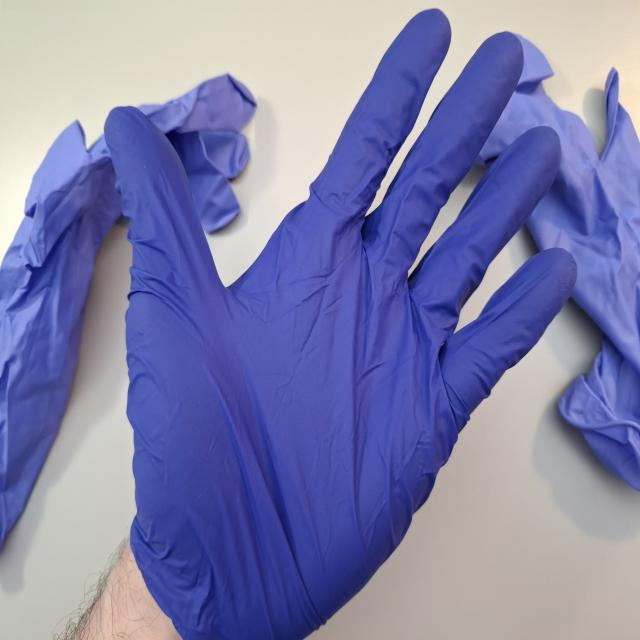glove_on: (104, 6, 581, 640)
